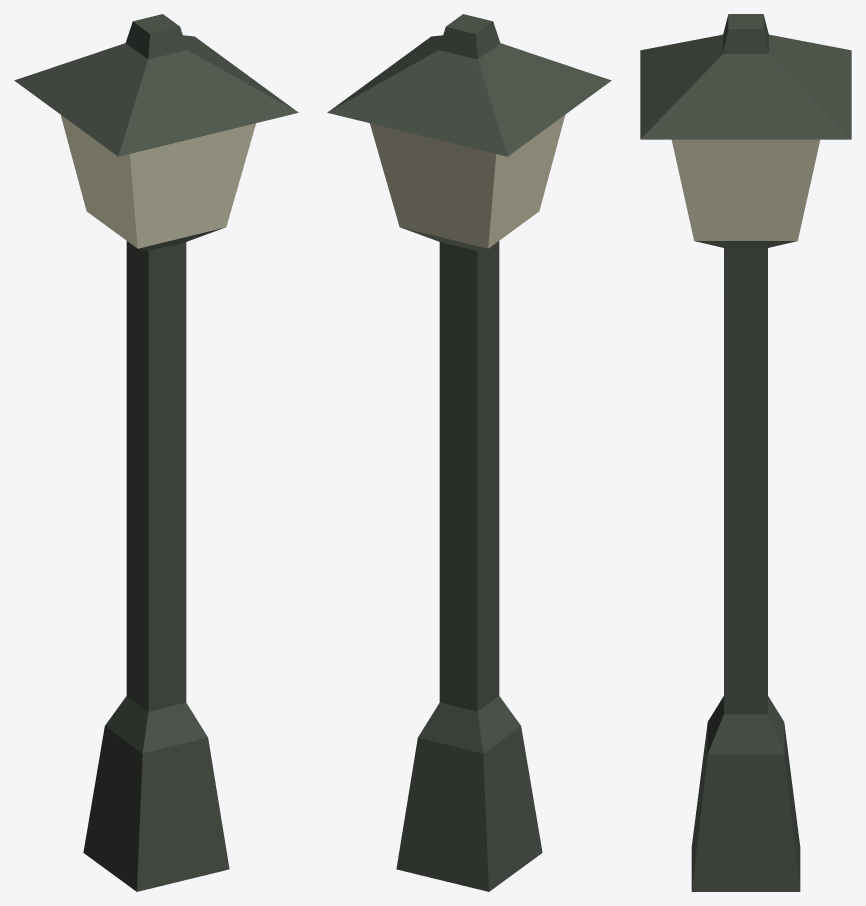
File: Lampu_Taman.fbx
3 views of the same model, side by side, from view 1: azimuth 30°, elevation 25°; view 2: azimuth 150°, elevation 25°; view 3: azimuth 270°, elevation 25° (orthographic).
Parts seen in each view (by area): view 1: Cube.015; view 2: Cube.015; view 3: Cube.015.
Part boxes in pixels (<box>): Cube.015: <box>14,14,298,891</box>; Cube.015: <box>327,14,611,891</box>; Cube.015: <box>640,14,851,891</box>.
Bounding box in the file's own units: 58.44 × 259 × 58.44.
